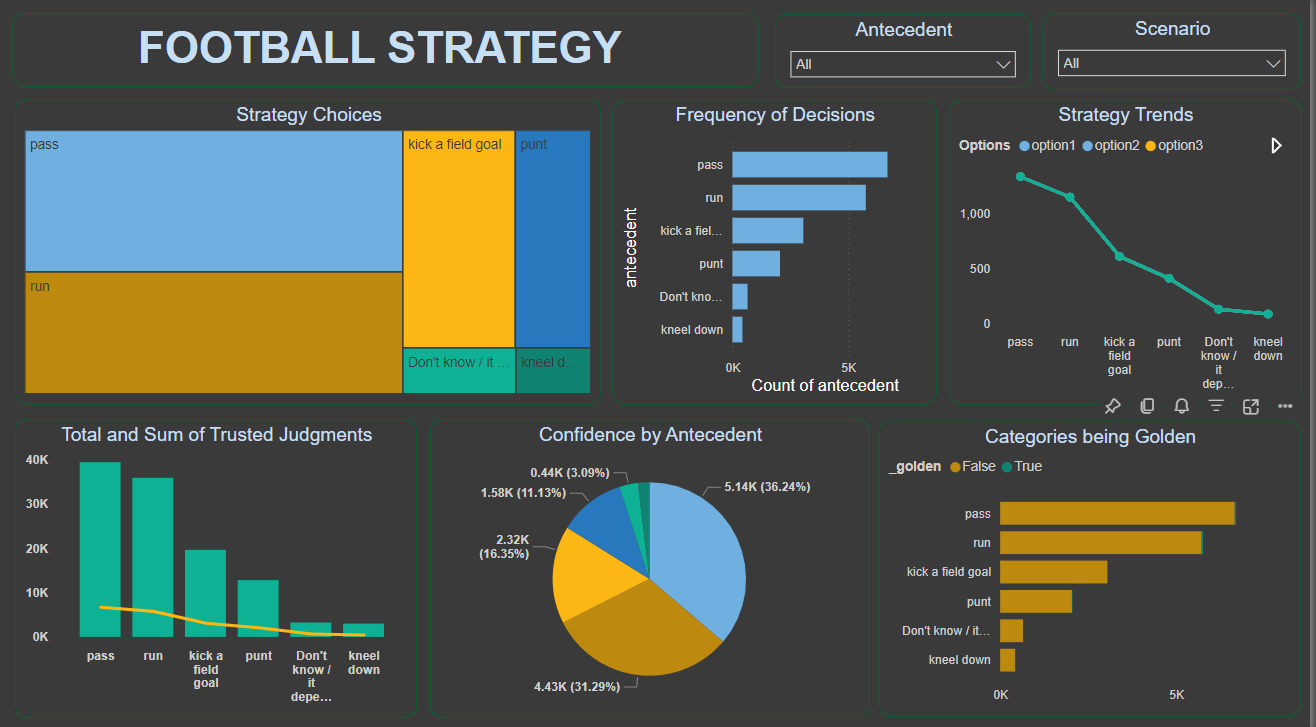

This screenshot's page, from the dashboard's own definition file:
{"tool":"powerbi","page":{"name":"Page 1","canvas":[1280,720],"ordinal":0},"visuals":[{"type":"pieChart","title":"Confidence by Antecedent","fields":{"Category":["Cleaned_Football_Scenarios.antecedent"],"Y":["Cleaned_Football_Scenarios.antecedent:confidence"]},"box":[419.6,411,429.5,292],"z":0},{"type":"barChart","title":"Frequency of Decisions","fields":{"Category":["Cleaned_Football_Scenarios.antecedent"],"Y":["Cleaned_Football_Scenarios.antecedent"]},"box":[598.8,99.4,316.6,298.2],"z":1000},{"type":"lineClusteredColumnComboChart","title":"Total and Sum of Trusted Judgments","fields":{"Category":["Cleaned_Football_Scenarios.antecedent"],"Y":["Cleaned_Football_Scenarios._trusted_judgments"],"Y2":["Cleaned_Football_Scenarios._trusted_judgments"]},"box":[14.7,411,392.6,292],"z":2000},{"type":"lineChart","title":"Strategy Trends","fields":{"Category":["Cleaned_Football_Scenarios.antecedent"],"Series":["Cleaned_Football_Scenarios.Options"],"Y":["Cleaned_Football_Scenarios.Value"]},"box":[926.4,99.4,344.8,298.2],"z":3000},{"type":"treemap","title":"Strategy Choices","fields":{"Group":["Cleaned_Football_Scenarios.antecedent"],"Values":["Cleaned_Football_Scenarios.Options"]},"box":[14.7,99.4,573,298.2],"z":4000},{"type":"textbox","box":[12.3,14.7,728.8,72.4],"z":5000},{"type":"slicer","title":"Antecedent","fields":{"Values":["Cleaned_Football_Scenarios.antecedent"]},"box":[757.1,16,250.3,72.4],"z":7000},{"type":"slicer","title":"Scenario","fields":{"Values":["Cleaned_Football_Scenarios.orig_antecedent"]},"box":[1018.4,14.7,252.8,74.8],"z":8000},{"type":"barChart","title":"Categories being Golden","fields":{"Series":["Cleaned_Football_Scenarios._golden"],"Y":["Cleaned_Football_Scenarios.antecedent"],"Category":["Cleaned_Football_Scenarios.antecedent"]},"box":[858.9,412.3,412.3,289.6],"z":8001}]}

Visuals, with their boxes in screenshot pixels (x1, y1, x2, y2), scaled from the page's 1280x720 canvas onto the 1316x727 screenshot:
"Confidence by Antecedent" pieChart: (left=431, top=415, right=873, bottom=710)
"Frequency of Decisions" barChart: (left=616, top=100, right=941, bottom=401)
"Total and Sum of Trusted Judgments" lineClusteredColumnComboChart: (left=15, top=415, right=419, bottom=710)
"Strategy Trends" lineChart: (left=952, top=100, right=1307, bottom=401)
"Strategy Choices" treemap: (left=15, top=100, right=604, bottom=401)
textbox: (left=13, top=15, right=762, bottom=88)
"Antecedent" slicer: (left=778, top=16, right=1036, bottom=89)
"Scenario" slicer: (left=1047, top=15, right=1307, bottom=90)
"Categories being Golden" barChart: (left=883, top=416, right=1307, bottom=709)
